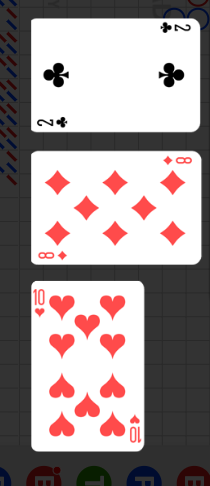10H: (127, 412, 141, 444), (32, 288, 46, 319)
2C: (158, 22, 192, 36)
